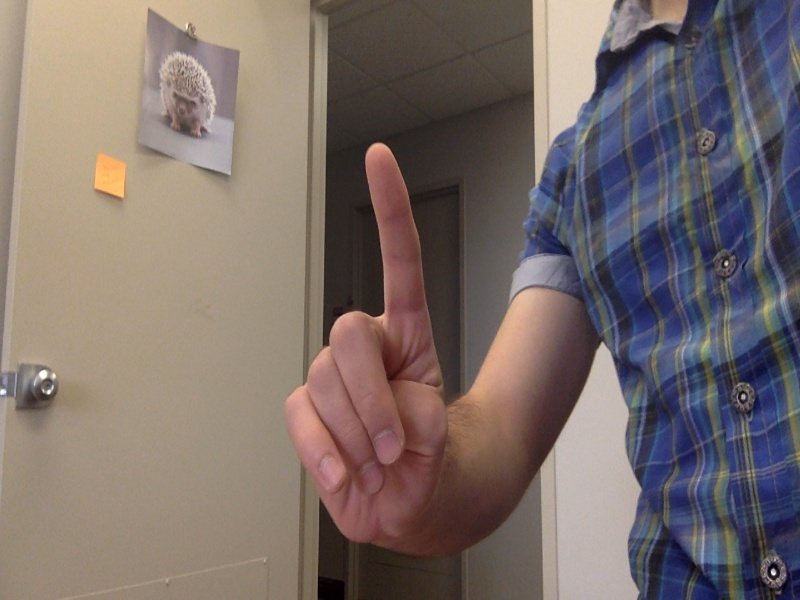1-hand: (285, 140, 445, 546)
